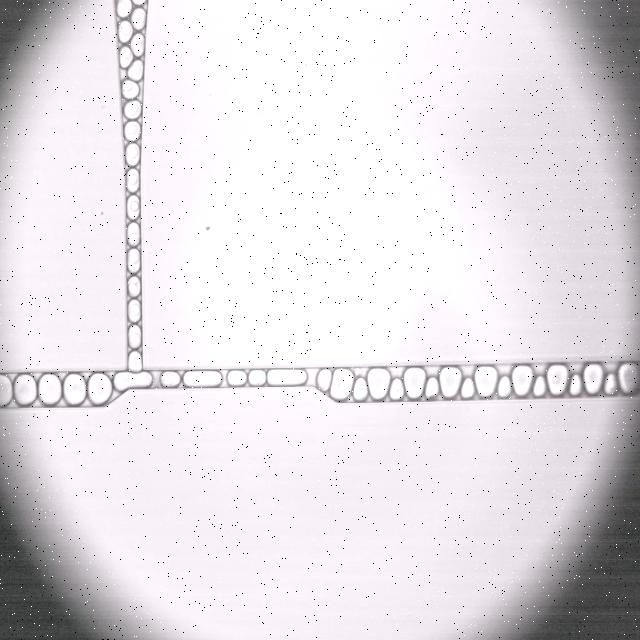L: (118, 20, 133, 43), (125, 143, 140, 166), (123, 100, 141, 119), (127, 60, 143, 81), (353, 377, 367, 401), (389, 378, 404, 400), (317, 369, 331, 392), (124, 121, 140, 141), (127, 222, 140, 246), (119, 46, 133, 68), (123, 80, 139, 99), (161, 371, 180, 387), (131, 33, 144, 56), (126, 169, 139, 192), (127, 249, 140, 272), (128, 325, 141, 348), (128, 351, 142, 372), (127, 195, 139, 219), (227, 370, 246, 385), (132, 9, 145, 30), (425, 377, 438, 398), (461, 377, 474, 398), (498, 376, 511, 397), (248, 370, 265, 386), (604, 373, 616, 395), (117, 0, 132, 17), (128, 300, 140, 321), (533, 376, 545, 397), (569, 374, 581, 395), (128, 276, 140, 296), (133, 0, 146, 5)
S: (88, 373, 112, 405), (330, 369, 354, 399), (367, 368, 390, 399), (474, 366, 497, 397), (64, 373, 86, 405), (113, 372, 152, 390), (14, 374, 36, 405), (267, 369, 307, 386), (183, 370, 222, 387), (39, 374, 61, 404), (404, 368, 426, 398), (439, 367, 461, 397), (618, 363, 639, 393), (547, 364, 567, 395), (512, 365, 532, 395), (583, 364, 603, 394), (0, 374, 12, 407)
